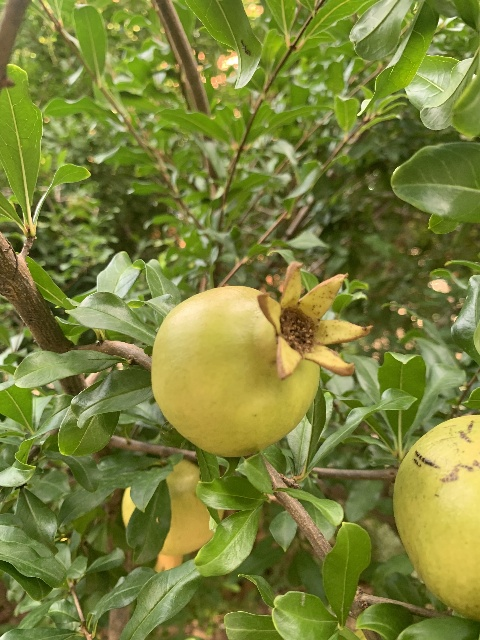mid-growth: (151, 260, 369, 459), (119, 459, 224, 573)
